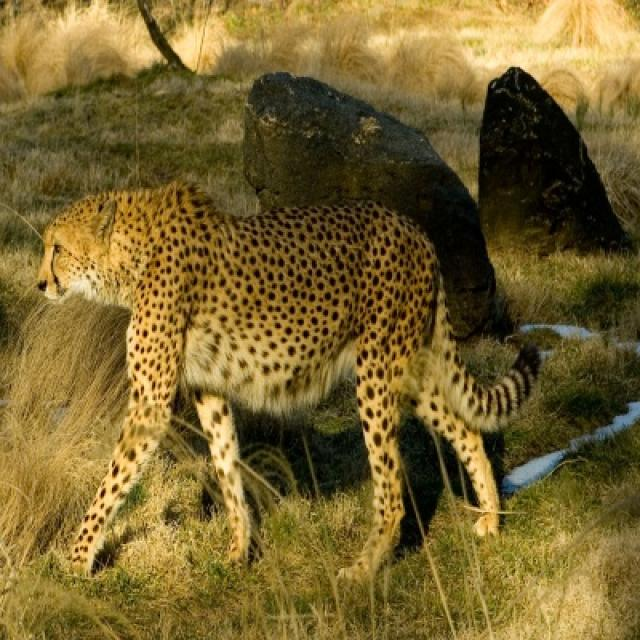Cheetah: (32, 181, 545, 578)
